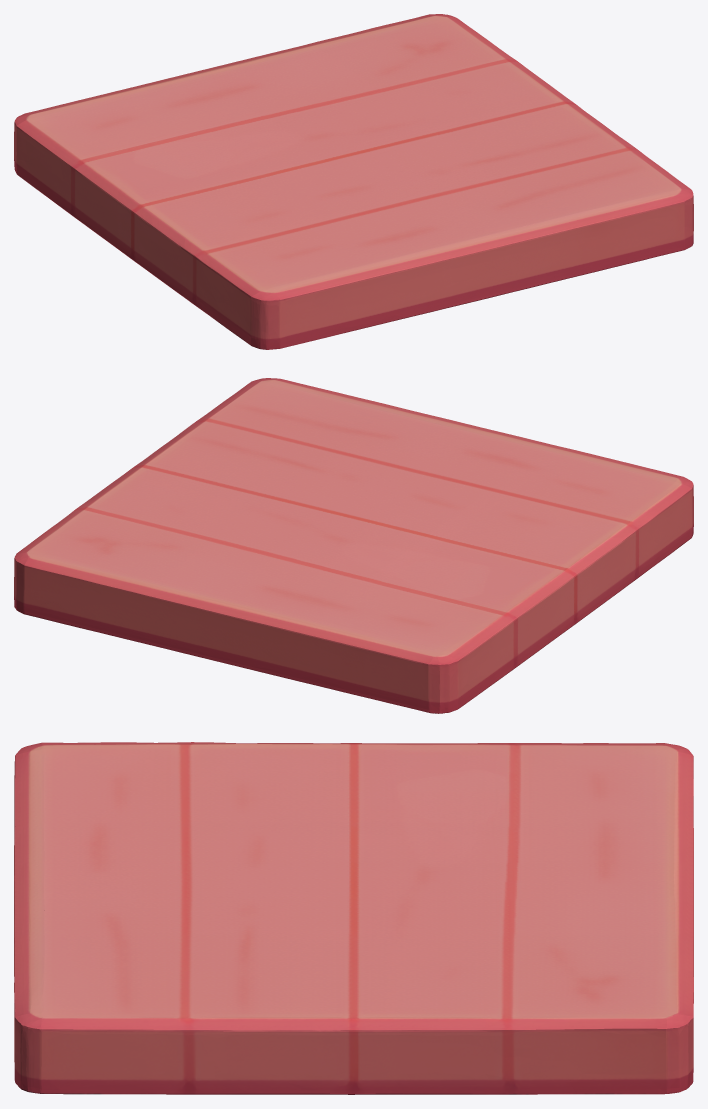
3 renders of one model, top to bottom at view 1: azimuth 30°, elevation 25°; view 2: azimuth 150°, elevation 25°; view 3: azimuth 270°, elevation 25°, orthographic. The views are drawn at different scales.
Parts seen in each view (by area): view 1: world; view 2: world; view 3: world.
Boxes of the visible parts, x1,y1,x2,y2 form: world: (14, 14, 693, 349); world: (14, 378, 693, 713); world: (14, 742, 693, 1094).
Size of the model in its own units: 100 by 11.46 by 100.
Materials: 1 (1 with a texture image).
